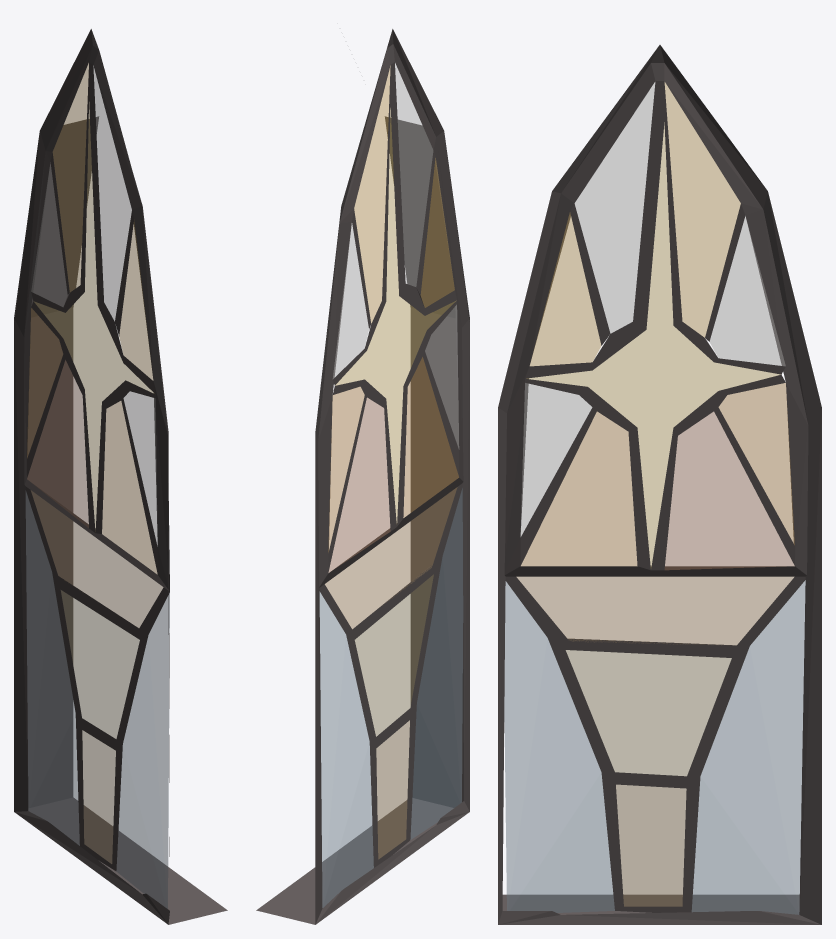
The picture shows the model from 3 angles, left to right: view 1: azimuth 30°, elevation 25°; view 2: azimuth 150°, elevation 25°; view 3: azimuth 270°, elevation 25°; orthographic projection. The views are drawn at different scales.
Size of the model in its own units: 16 by 216 by 72.
Materials: 2 (2 with a texture image).
